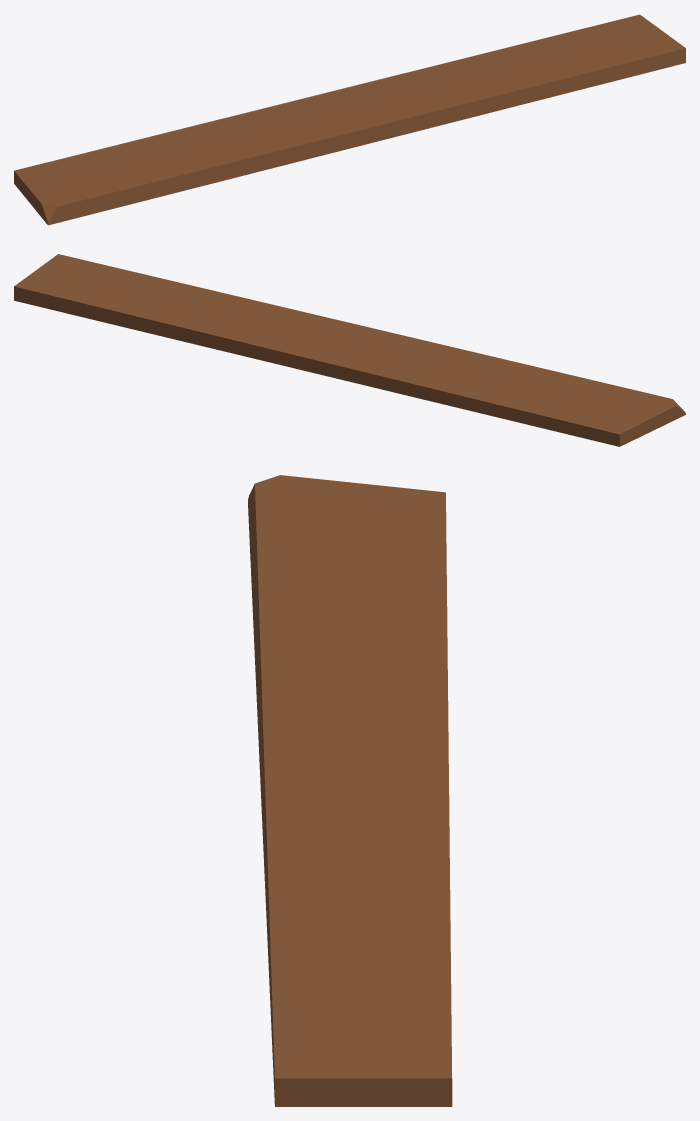
File: Done_Wood_Plank_B.glb
The picture shows the model from 3 angles, top to bottom: view 1: azimuth 30°, elevation 25°; view 2: azimuth 150°, elevation 25°; view 3: azimuth 270°, elevation 25°; orthographic projection. The views are drawn at different scales.
Parts seen in each view (by area): view 1: Wood Plank B; view 2: Wood Plank B; view 3: Wood Plank B.
Part boxes in pixels (<box>): Wood Plank B: <box>14,14,685,225</box>; Wood Plank B: <box>14,254,685,446</box>; Wood Plank B: <box>248,475,452,1106</box>.
Bounding box in the file's own units: 5.21 × 0.1143 × 0.7424.
